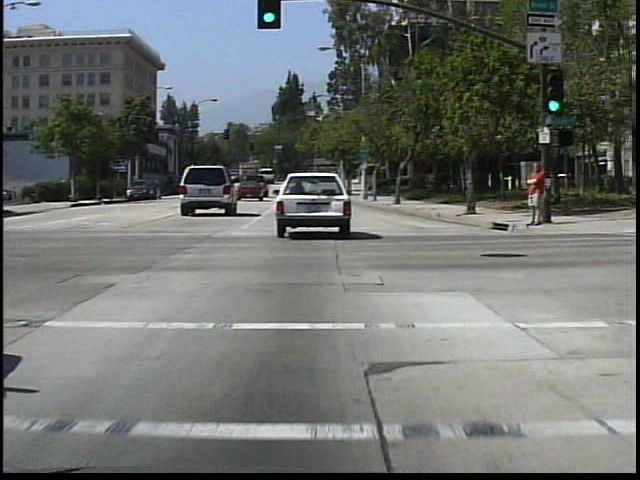person: (522, 159, 550, 229)
